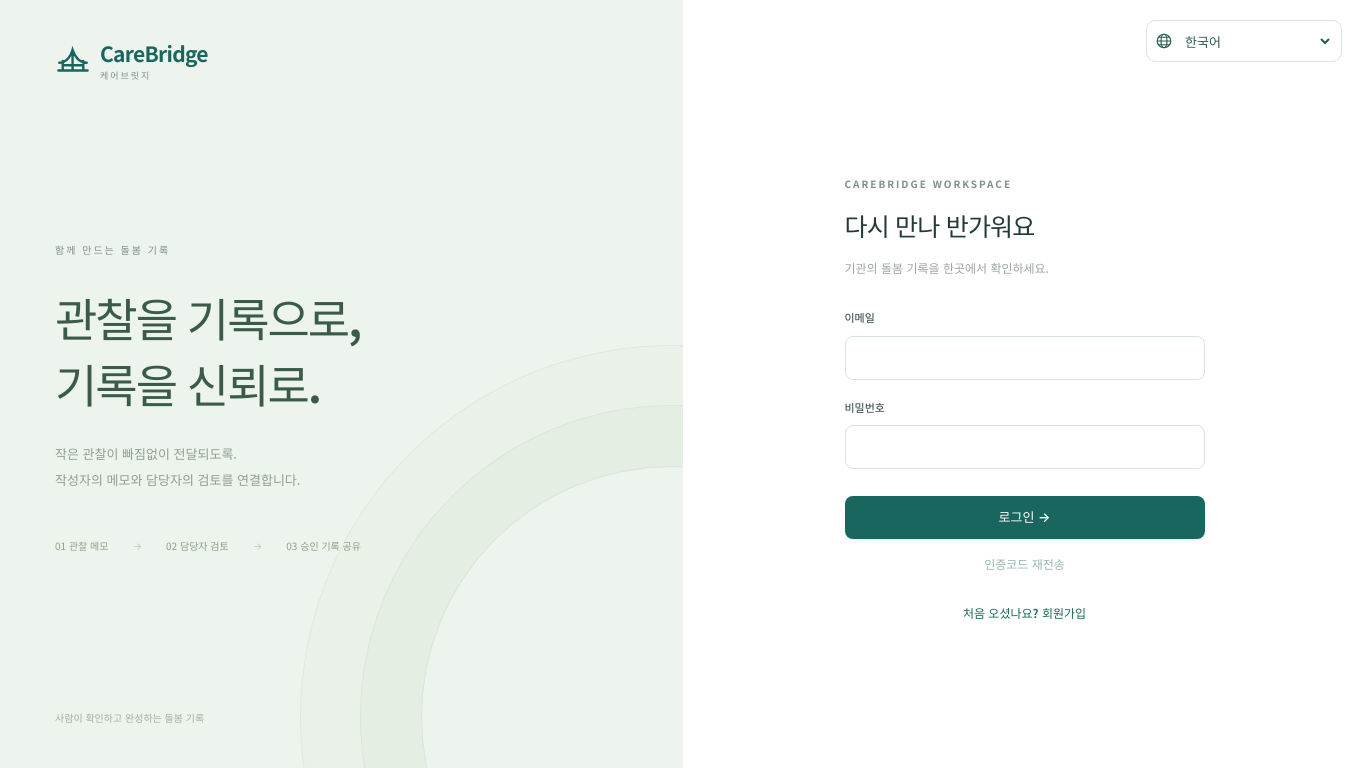
Test: public login has no admin or QA guidance and still submits the literal ID
Type "admin" into the field labelled "이메일" at point(1024, 358), box [844, 336, 1204, 380]
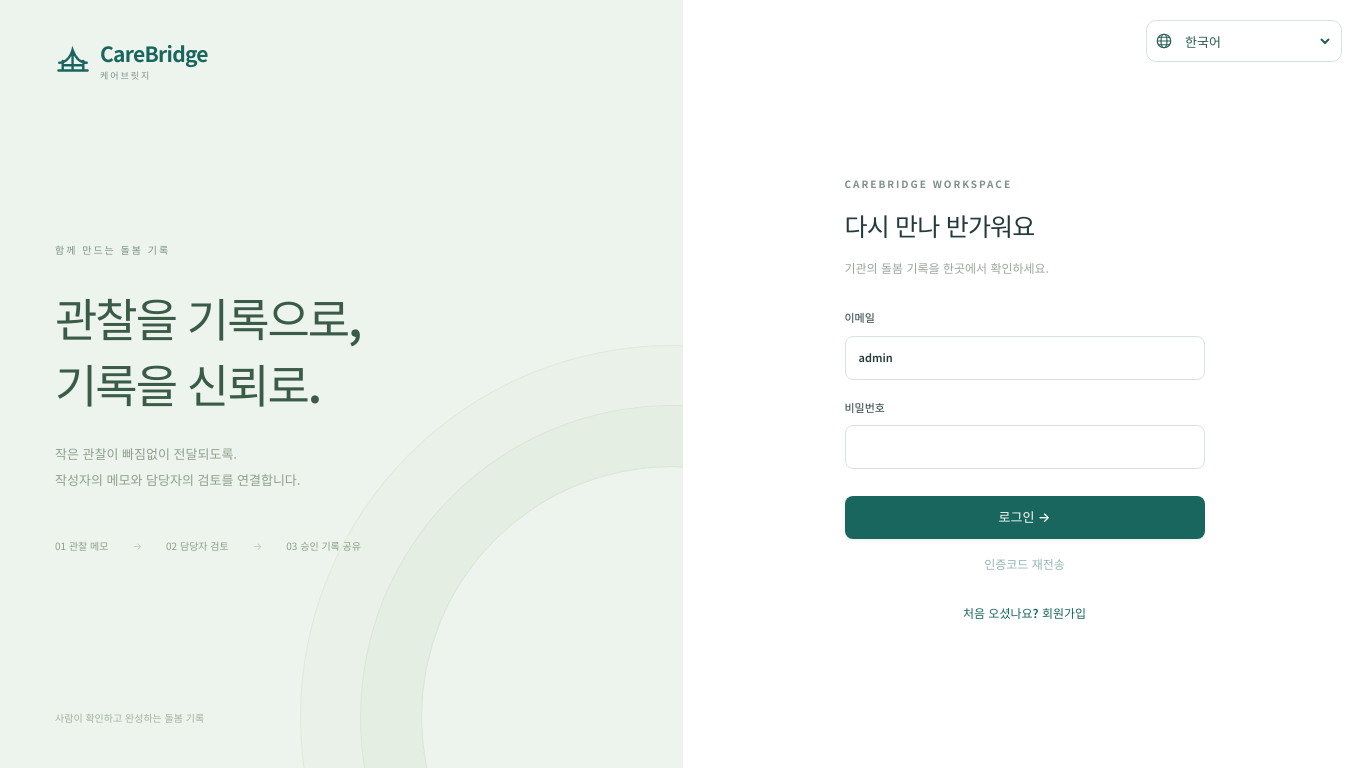
Type "demo" into the password field labelled "비밀번호" at point(1024, 447), box [844, 425, 1204, 469]
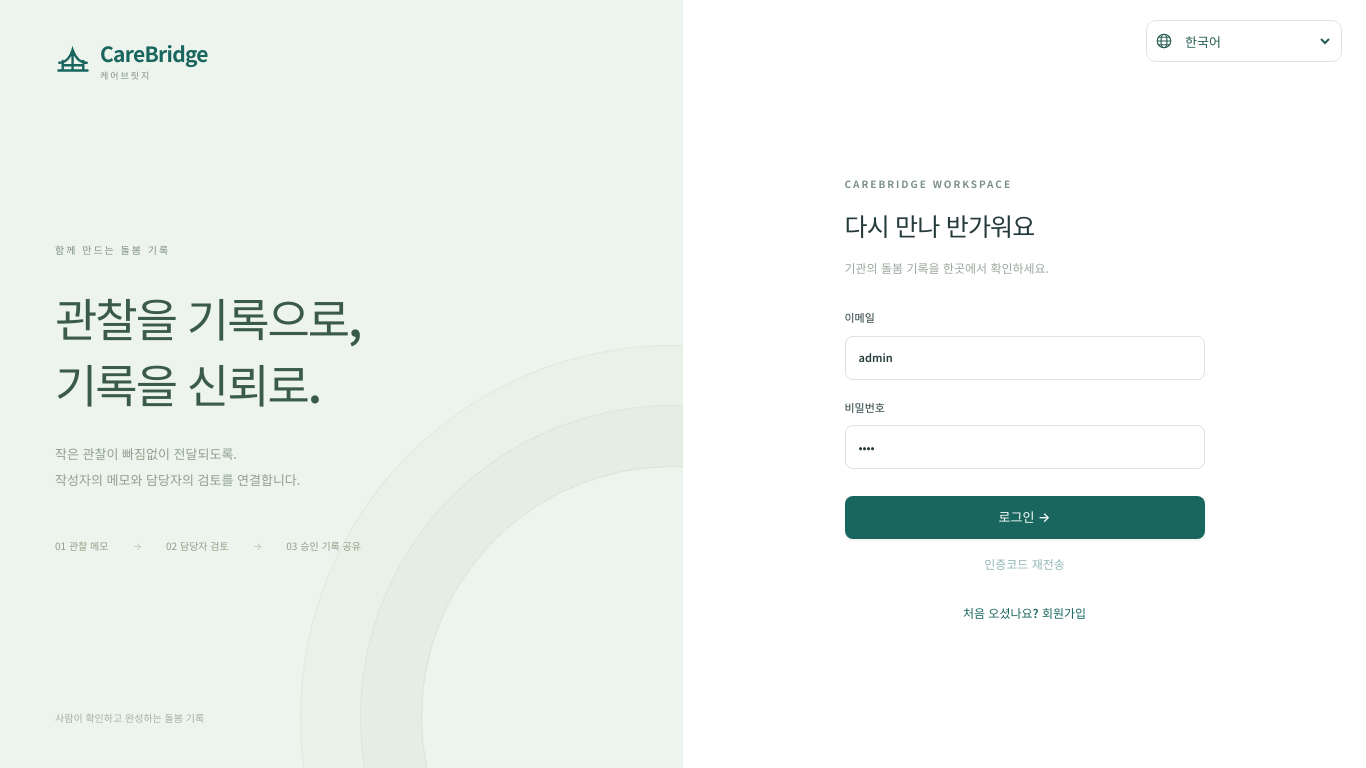
Click the button "로그인 →" at point(1024, 518), box [844, 496, 1204, 539]
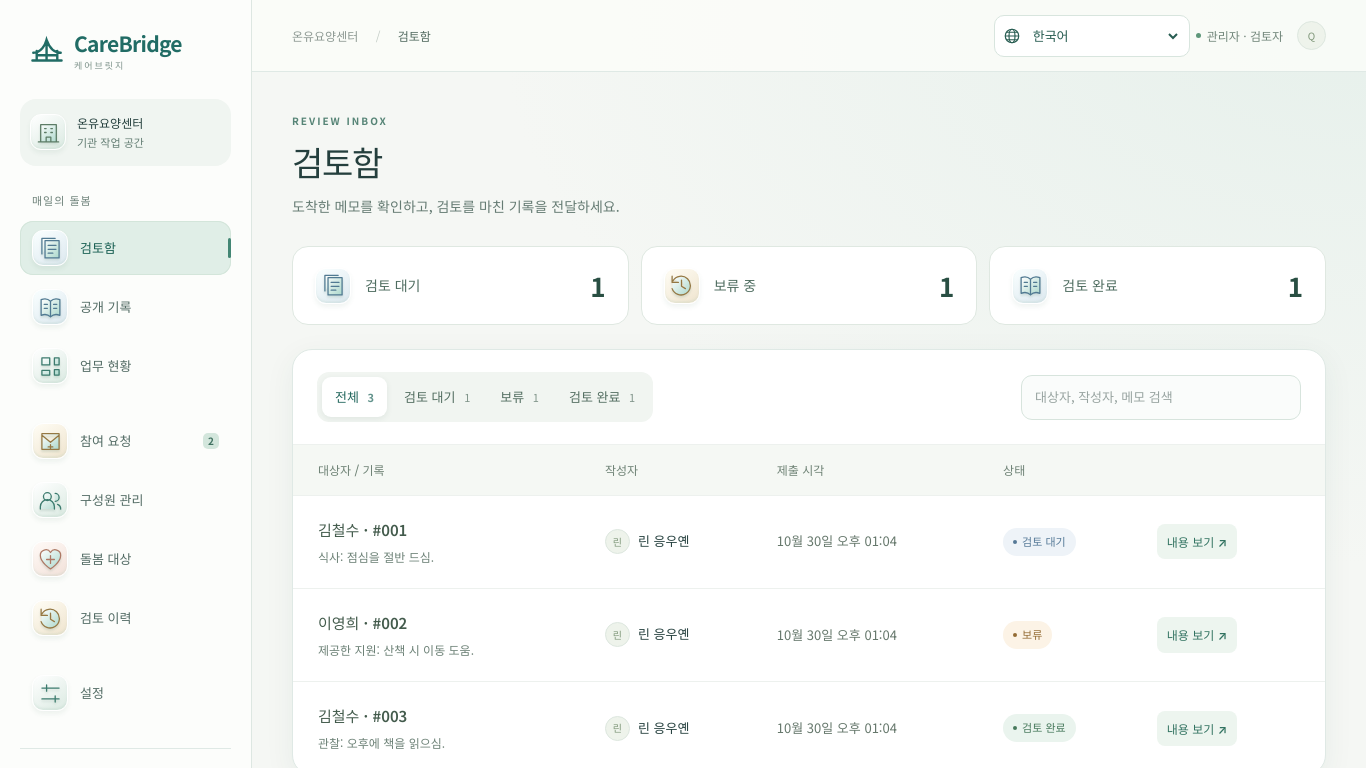
Check: the navigation bar named "주 메뉴" is shown, box [20, 221, 231, 720]
